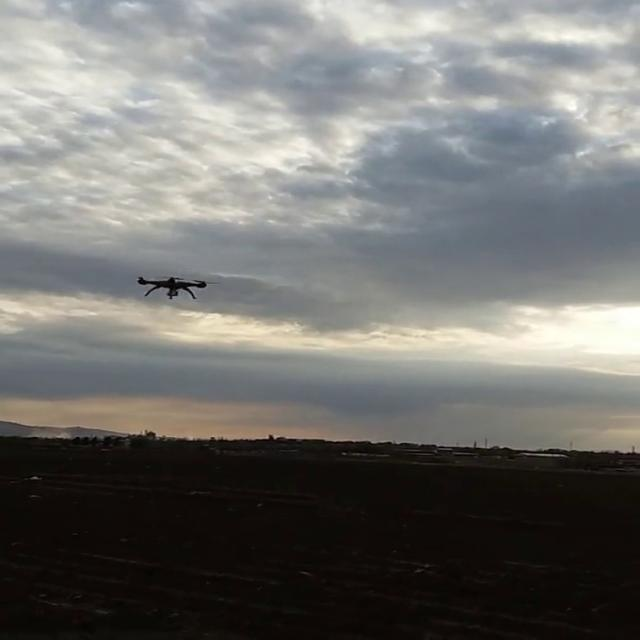drone: (125, 271, 221, 304)
